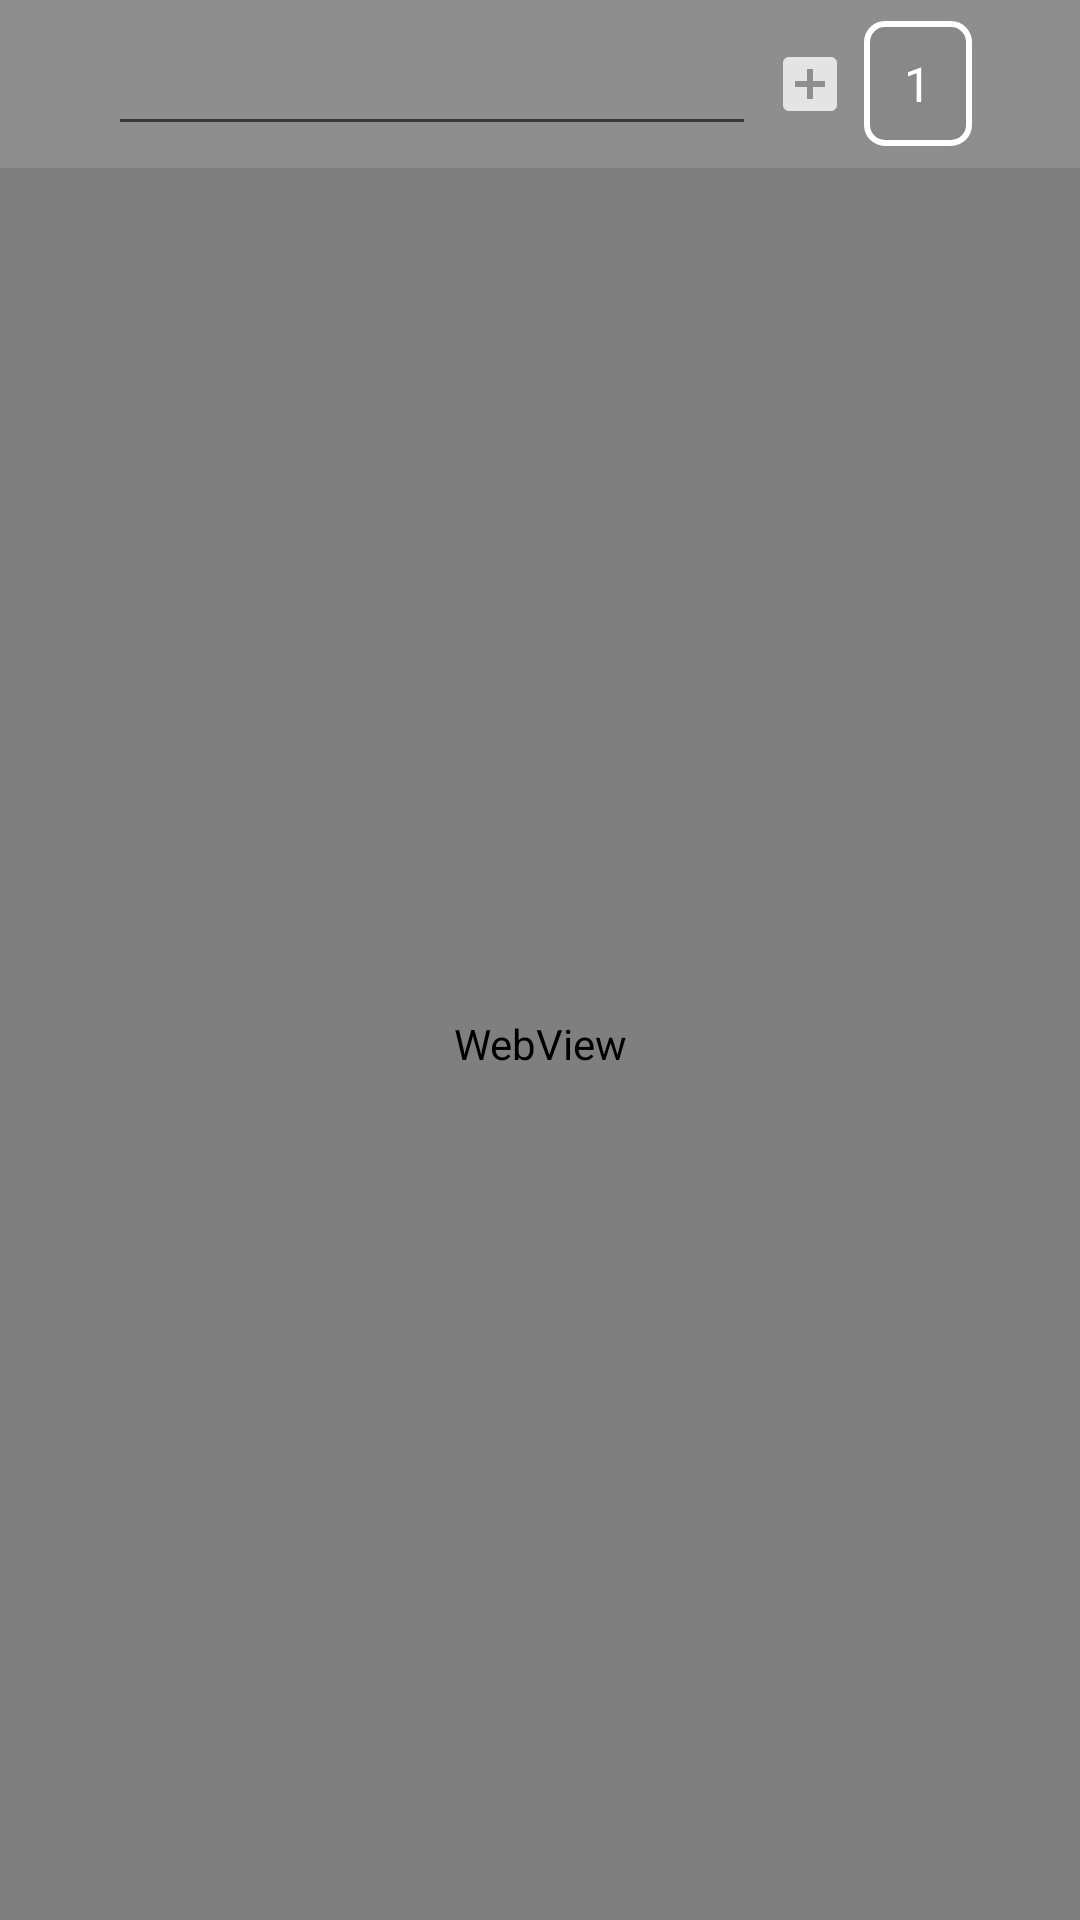

Where to tap for icons on this 1080w x 1920h app screen, as (x,y):
add: (810,84)
